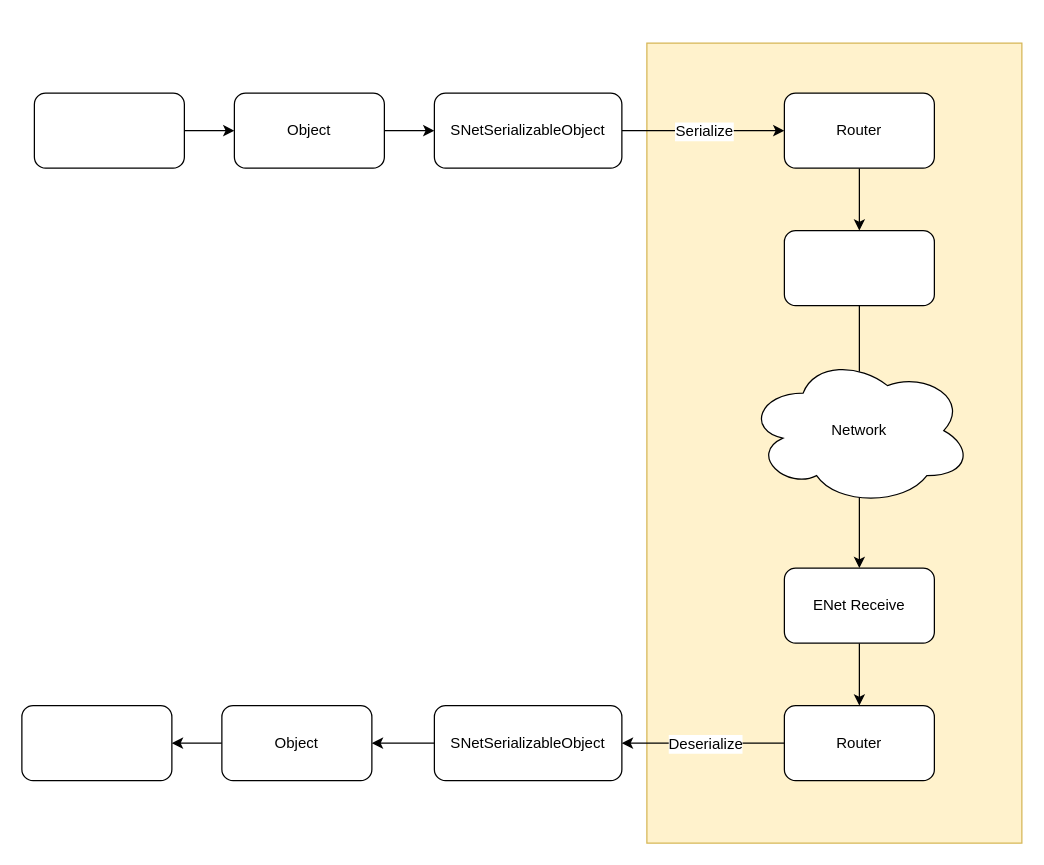
Image size: 1044x865. Some labels were removed from this diagram. The shapes that lost their labels are listed below. From the top down, each one's box as (x1, y1, x2, y2) in pixels, then its label:
(33, 92, 184, 168): Send(Object)
(783, 229, 934, 306): ENet Send
(646, 42, 1022, 843): SNet automatic (non changeable)
(21, 704, 172, 781): Callback(Object)
